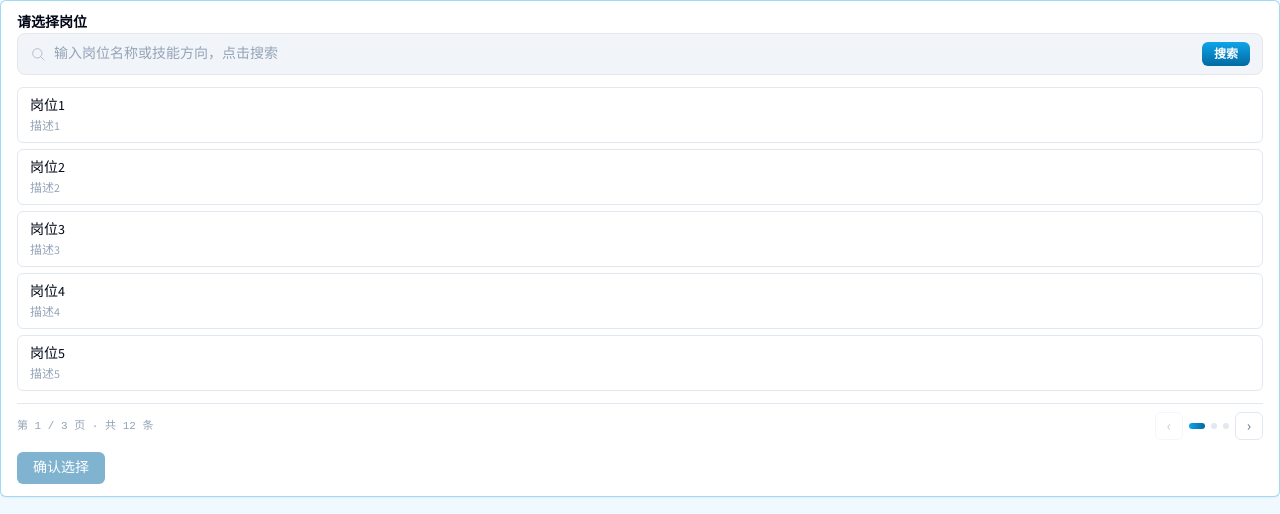
Test: JobSelection 分页+手动搜索 › 点击搜索按钮触发过滤
Type "岗位1" into the field with placeholder "输入岗位名称或技能方向，点击搜索" at (624, 54), box left=54, top=44, right=1194, bottom=64
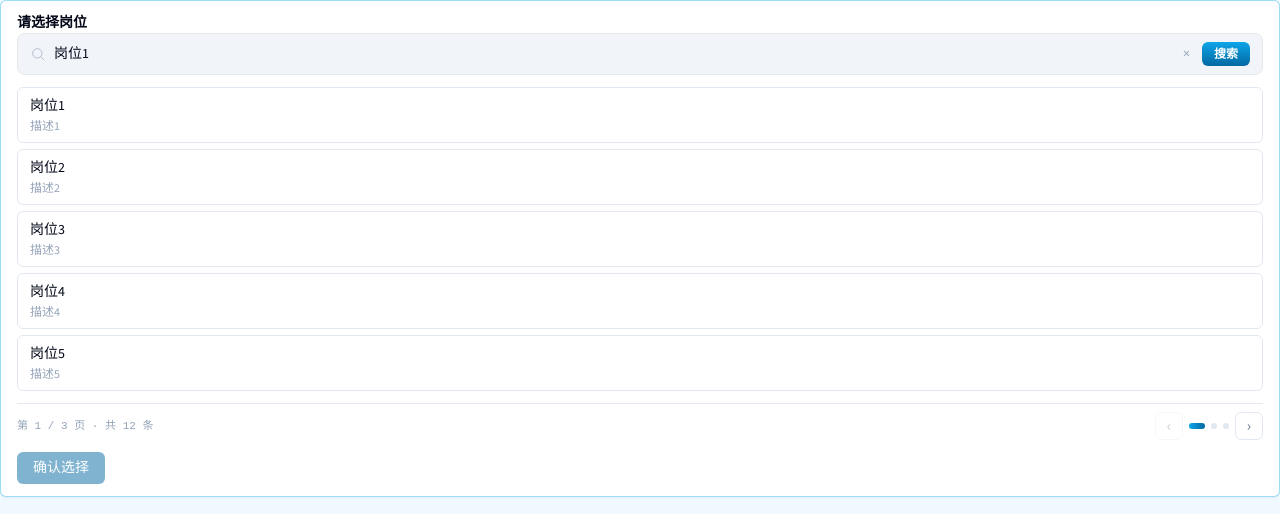
Click the button "搜索" at (1226, 54), box left=1202, top=42, right=1250, bottom=66
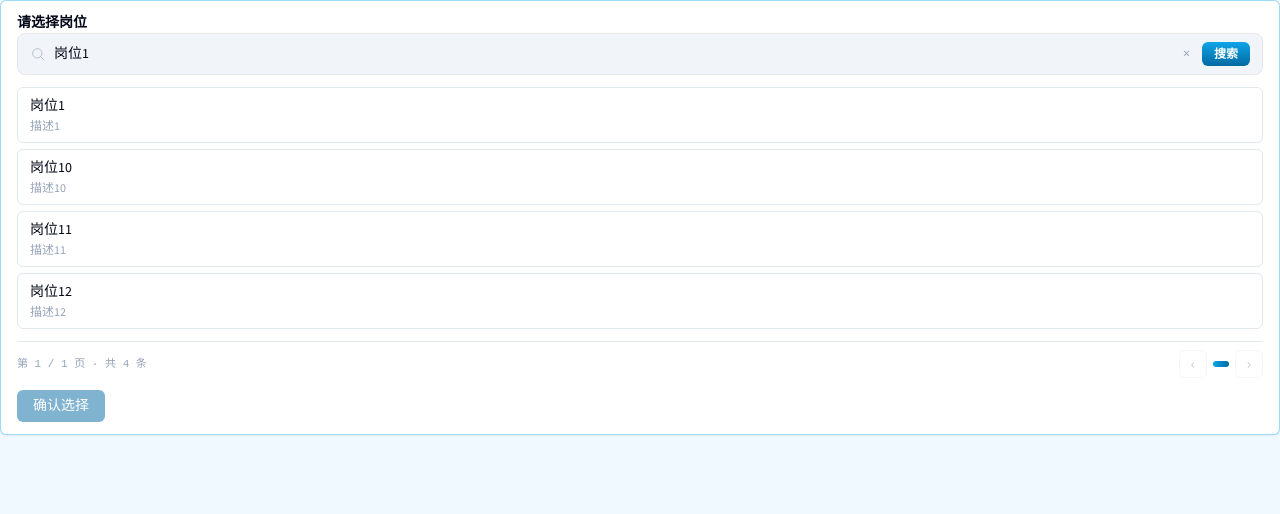
Check: the button "岗位1 描述1" is shown, box left=17, top=87, right=1263, bottom=143
Check: the button "岗位2" is gone
